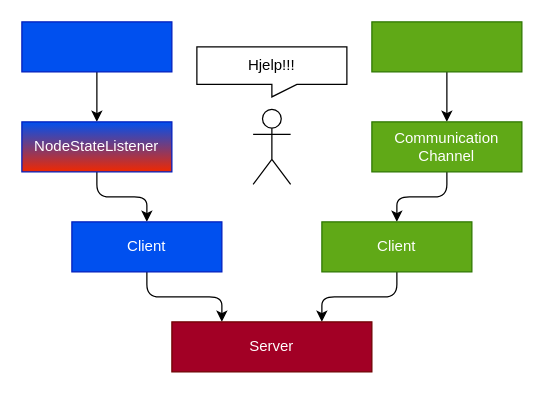
The diagram is 544 pixels wide and 394 high, and some of its shapes have lost their labels. The shapes that lost their labels are listed below. From the top down, each one's centre as x and y in pixels, then its label:
the point at 96,46: GreenhouseSimulator
the point at 446,46: ControlPanelLogic
the point at 271,146: Henrik!!
